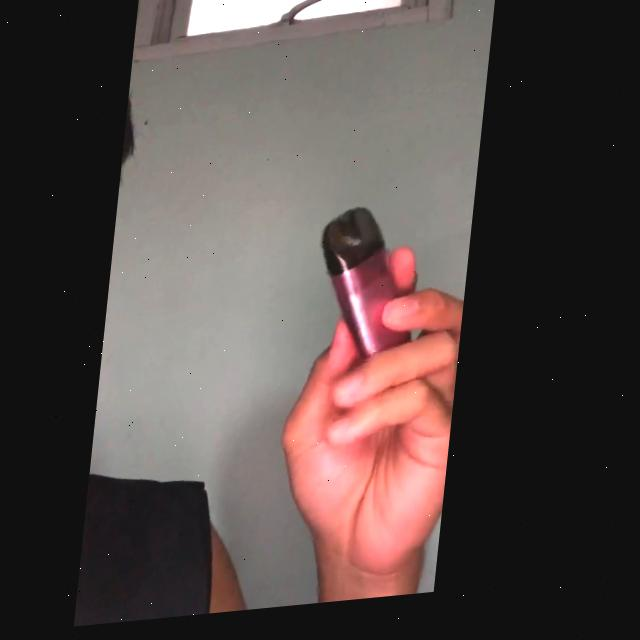vape: (318, 209, 430, 368)
